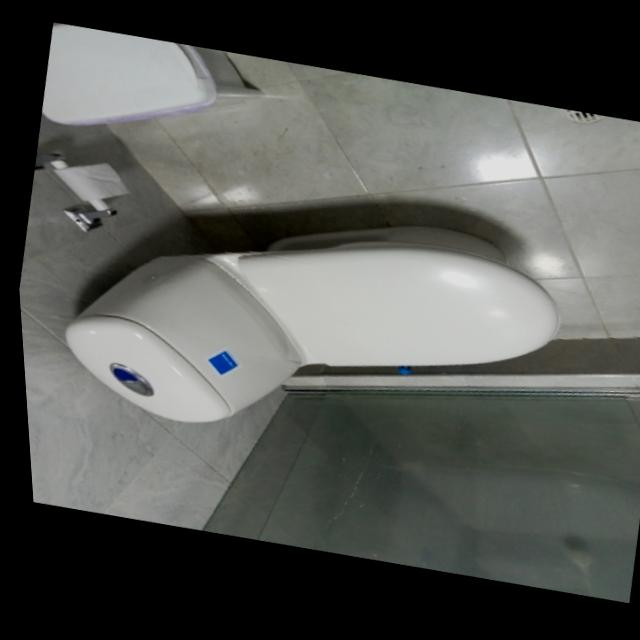toilet: (38, 159, 579, 495)
